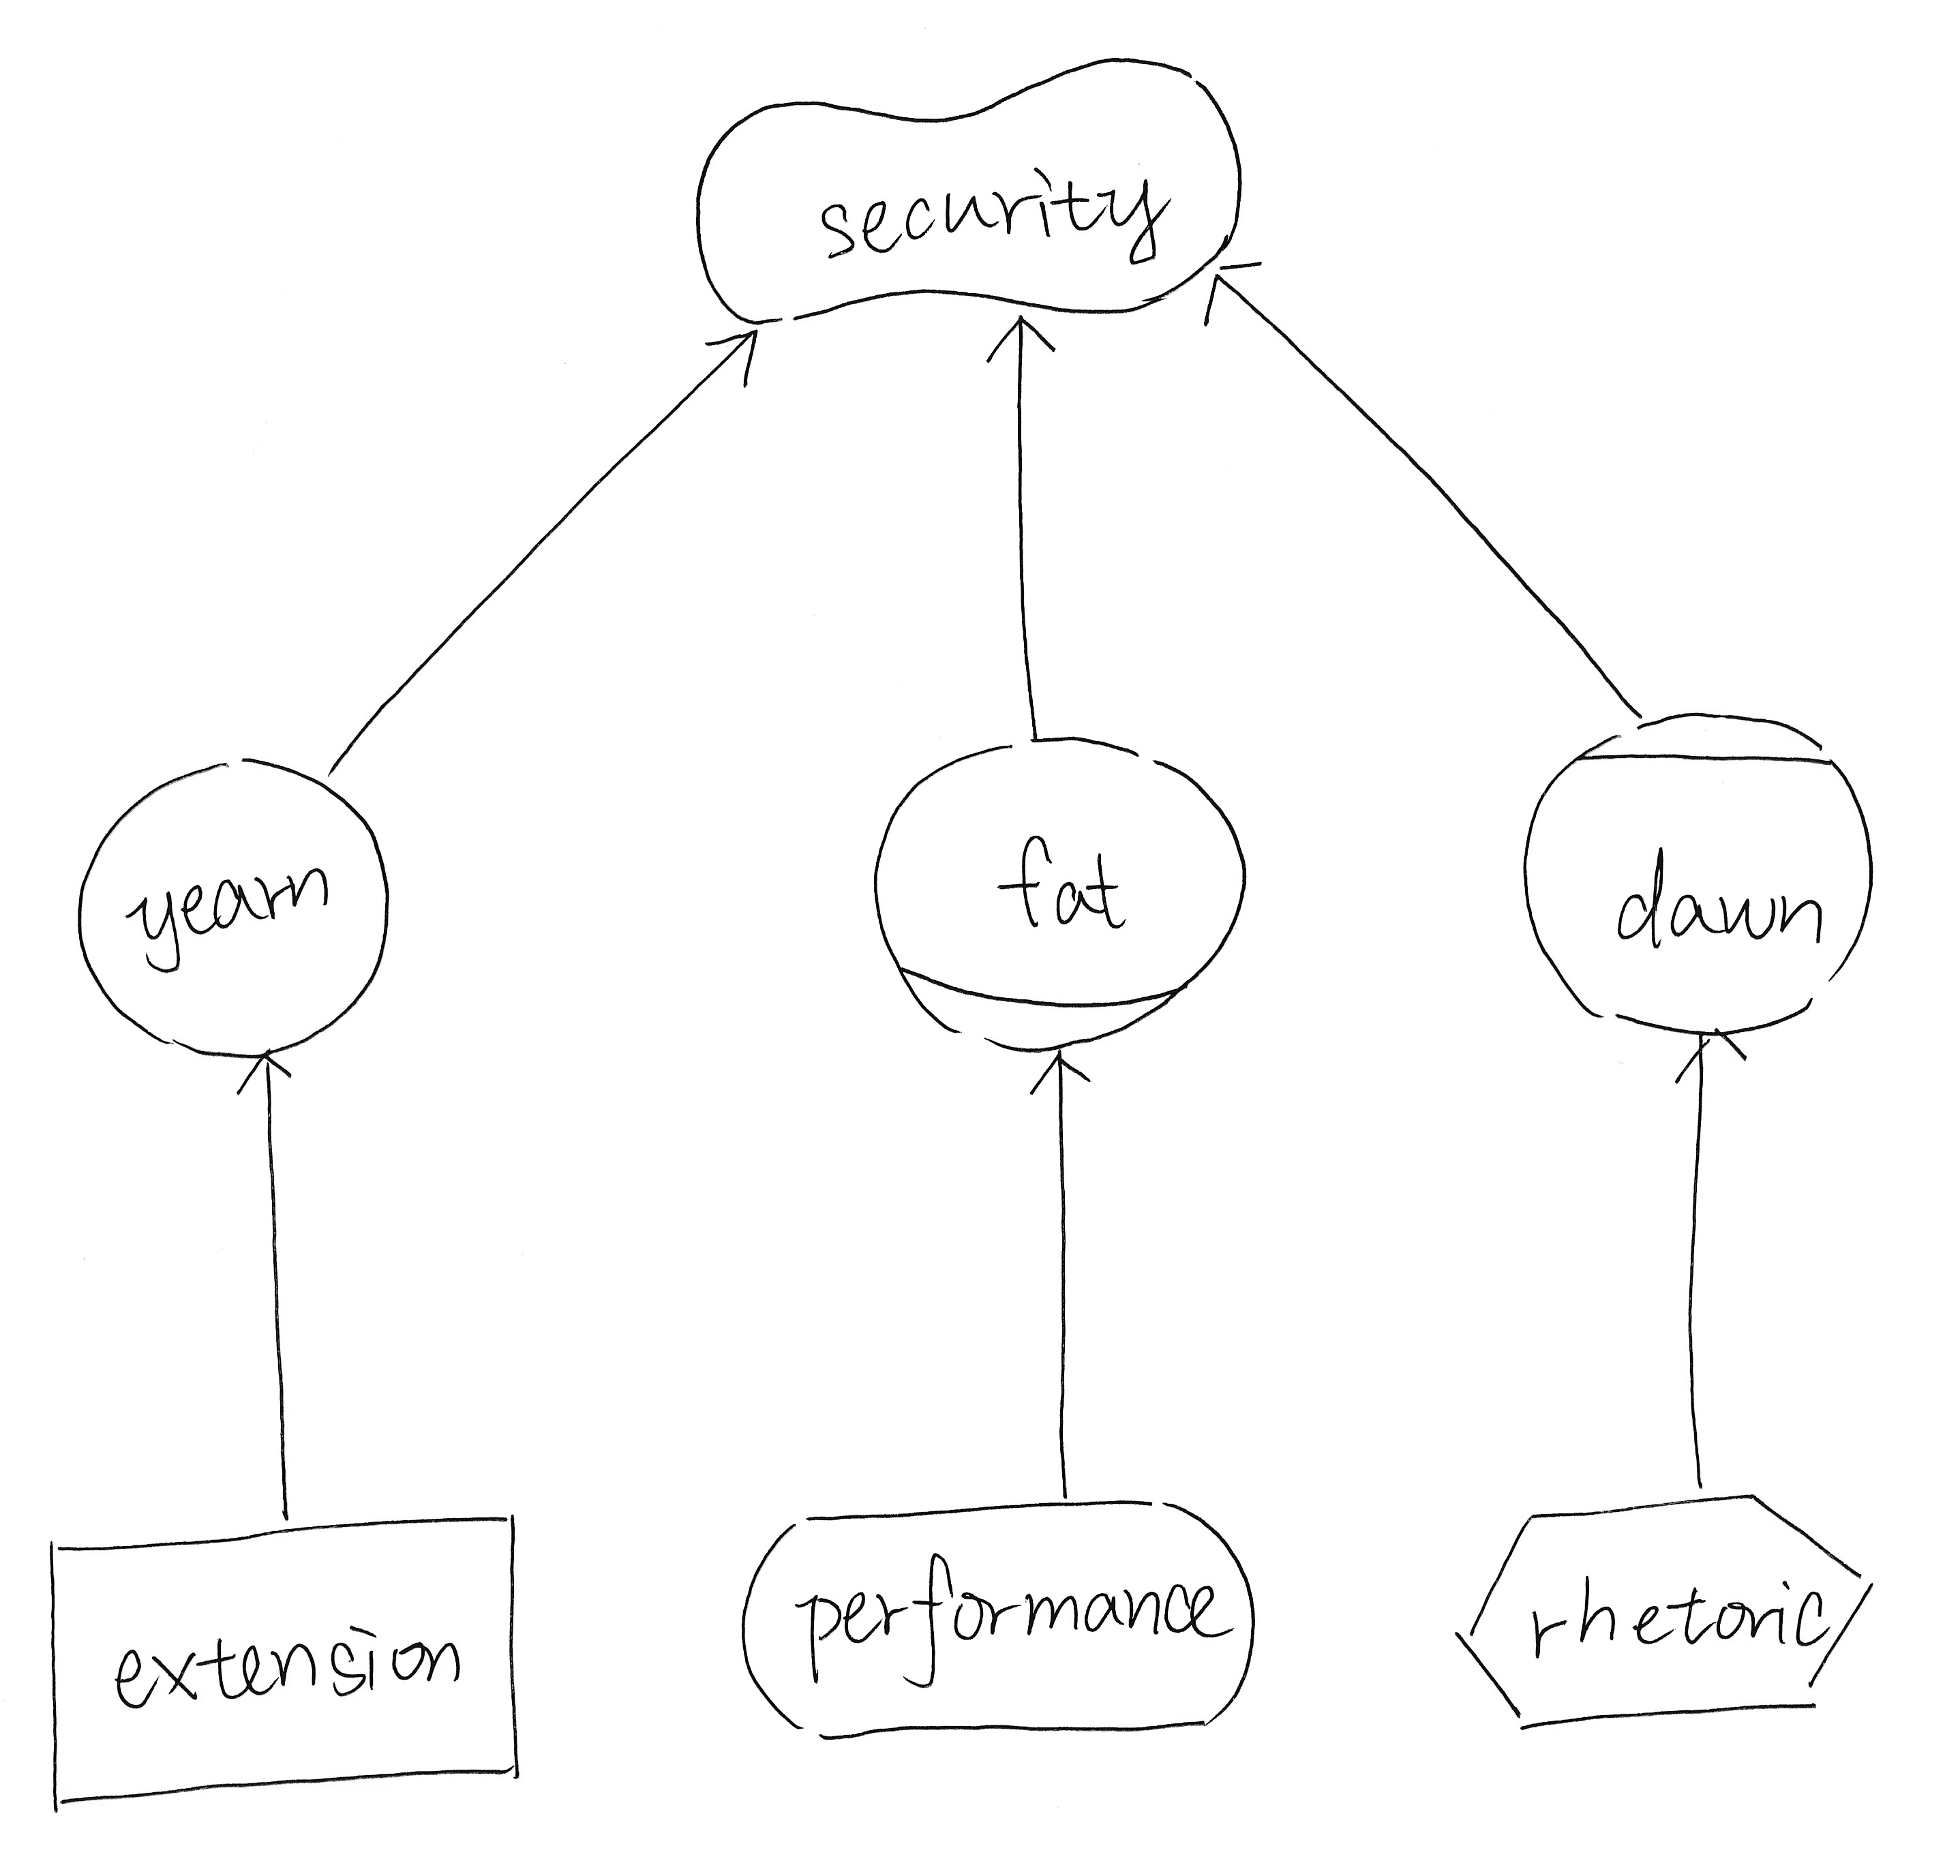actor: (58, 738, 408, 1074)
agent: (1508, 696, 1890, 1050)
arrow: (971, 303, 1066, 394), (1195, 250, 1274, 343), (1655, 1024, 1759, 1092), (691, 320, 768, 411), (1011, 1038, 1099, 1108), (226, 1048, 304, 1106)
goal: (726, 1487, 1269, 1755)
quality: (675, 35, 1258, 345)
resource: (30, 1494, 548, 1820)
role: (859, 721, 1258, 1064)
task: (1440, 1475, 1886, 1759)
